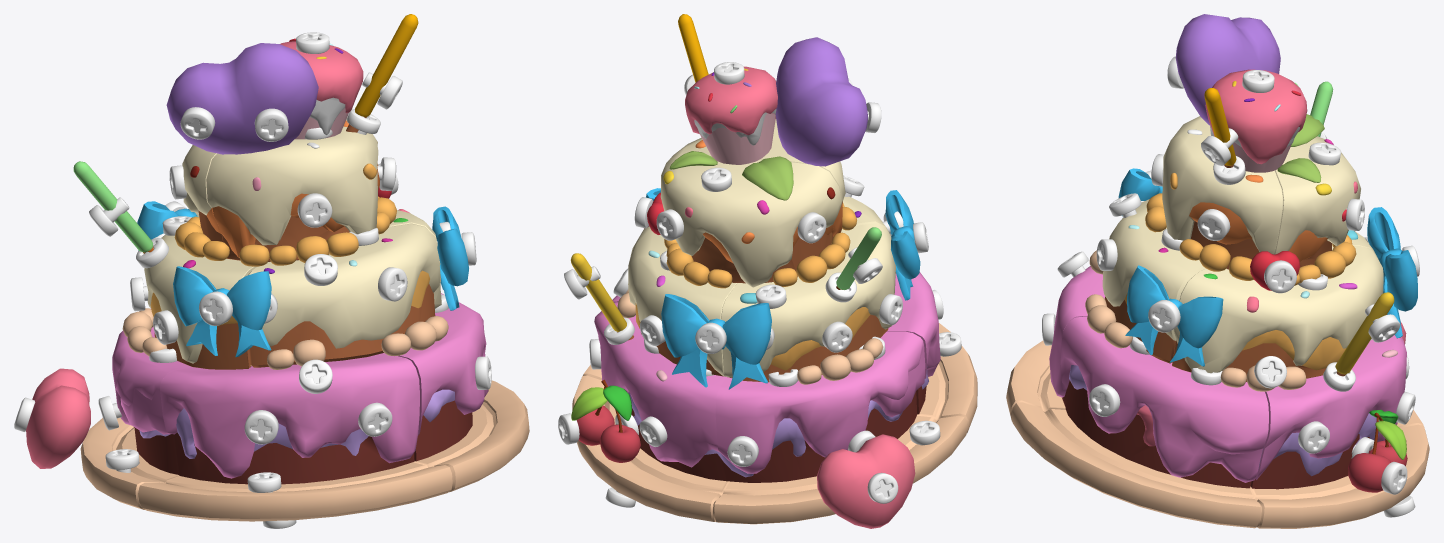
File: CreamCake.fbx
The picture shows the model from 3 angles, left to right: view 1: azimuth 30°, elevation 25°; view 2: azimuth 150°, elevation 25°; view 3: azimuth 270°, elevation 25°; orthographic projection. The views are drawn at different scales.
Visible parts, largest first — view 1: CreamCake_007, CreamCake_016, CreamCake_029, Screw (×16), CreamCake_009.001, CreamCake_022, CreamCake_014, CreamCake_028, CreamCake_009.003, CreamCake_013, CreamCake_023, CreamCake_004 (+8 smaller); view 2: CreamCake_018, CreamCake_013, CreamCake_028, Screw (×18), CreamCake_015, CreamCake_022, CreamCake_010, CreamCake_009.002, CreamCake_023, CreamCake_009, CreamCake_002, CreamCake_012 (+9 smaller); view 3: CreamCake_014, CreamCake_012, CreamCake_015, CreamCake_016, Screw (×17), CreamCake_009.003, CreamCake_018, CreamCake_029, CreamCake_009, CreamCake_022, CreamCake_010, CreamCake_001 (+9 smaller).
Part boxes in pixels (x1,y1,x2,y2): CreamCake_007: [160, 353, 419, 484]; CreamCake_016: [206, 119, 396, 266]; CreamCake_029: [248, 224, 448, 369]; Screw (×16): [89, 32, 407, 492]; CreamCake_009.001: [138, 462, 453, 521]; CreamCake_022: [166, 43, 318, 154]; CreamCake_014: [398, 293, 488, 461]; CreamCake_028: [122, 216, 256, 369]; CreamCake_009.003: [414, 380, 529, 492]; CreamCake_013: [112, 308, 192, 474]; CreamCake_023: [26, 368, 90, 468]; CreamCake_004: [173, 266, 271, 357]; CreamCake_018: [660, 151, 850, 288]; CreamCake_013: [715, 331, 925, 482]; CreamCake_028: [721, 223, 895, 384]; Screw (×18): [558, 62, 961, 503]; CreamCake_015: [594, 302, 726, 481]; CreamCake_022: [775, 37, 867, 166]; CreamCake_010: [685, 66, 777, 164]; CreamCake_009.002: [713, 414, 967, 524]; CreamCake_023: [817, 434, 915, 528]; CreamCake_009: [572, 375, 727, 521]; CreamCake_002: [661, 294, 771, 389]; CreamCake_012: [617, 225, 737, 376]; CreamCake_014: [1060, 316, 1268, 488]; CreamCake_012: [1172, 245, 1383, 391]; CreamCake_015: [1250, 335, 1406, 489]; CreamCake_016: [1145, 116, 1283, 280]; Screw (×17): [1057, 70, 1407, 494]; CreamCake_009.003: [1011, 402, 1261, 528]; CreamCake_018: [1274, 114, 1360, 285]; CreamCake_029: [1085, 199, 1205, 363]; CreamCake_009: [1250, 424, 1429, 528]; CreamCake_022: [1175, 14, 1280, 125]; CreamCake_010: [1205, 69, 1307, 172]; CreamCake_001: [1125, 265, 1223, 366].
Bounding box in the file's own units: 9.29 × 10.2 × 8.81.
Materials: 2 (1 with a texture image).
